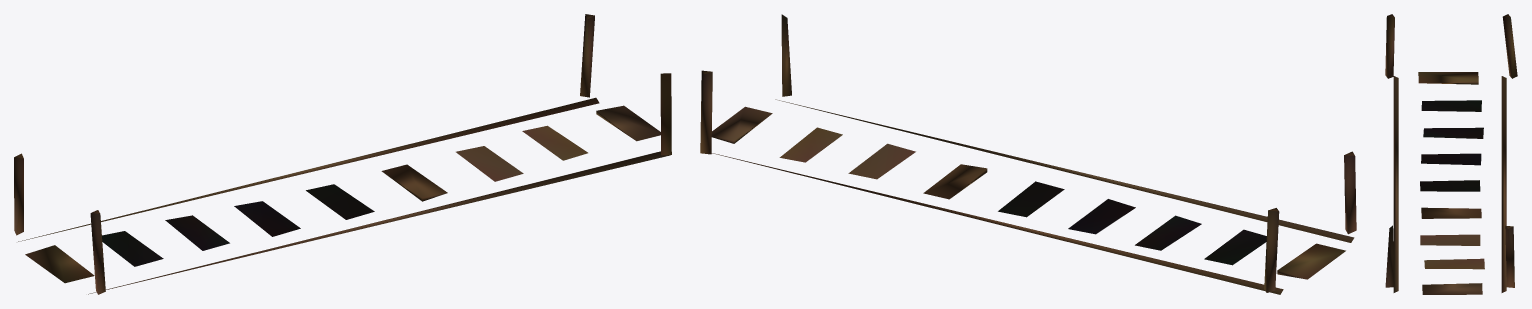
The model's file is bridge_bk_foret_broceliande_0004.glb.
The picture shows the model from 3 angles, left to right: view 1: azimuth 30°, elevation 25°; view 2: azimuth 150°, elevation 25°; view 3: azimuth 270°, elevation 25°; orthographic projection. The views are drawn at different scales.
Parts seen in each view (by area): view 1: bridge_bk_004; view 2: bridge_bk_004; view 3: bridge_bk_004.
Part boxes in pixels (x1,y1,x2,y2): bridge_bk_004: (14,14,671,294); bridge_bk_004: (700,14,1356,294); bridge_bk_004: (1385,14,1517,294).
Bounding box in the file's own units: 8.55 × 1.2 × 2.14.
